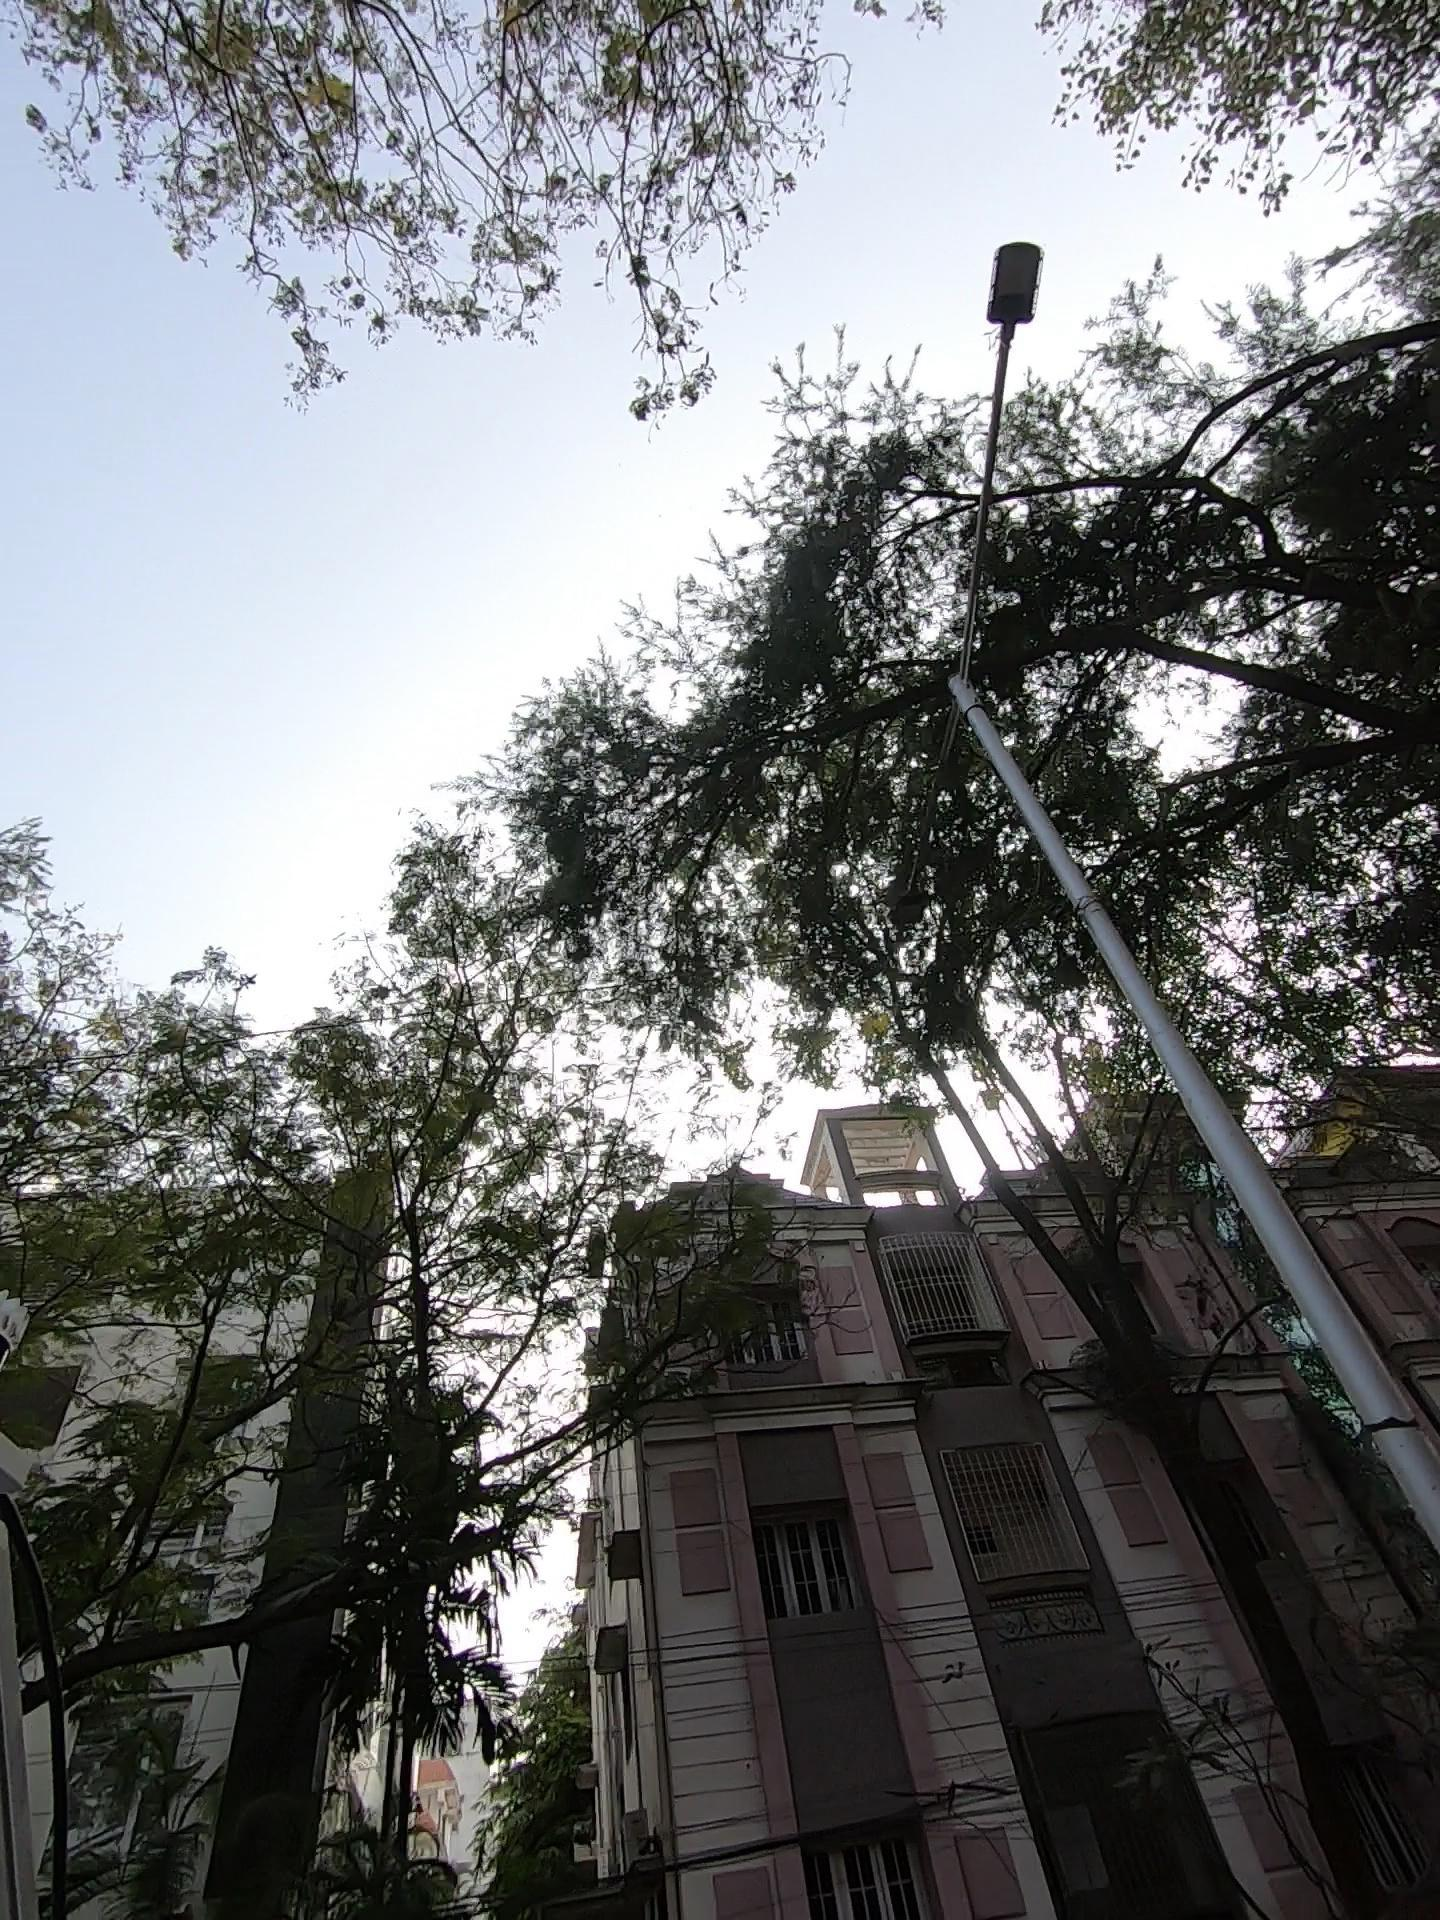off: (885, 262, 1083, 712)
